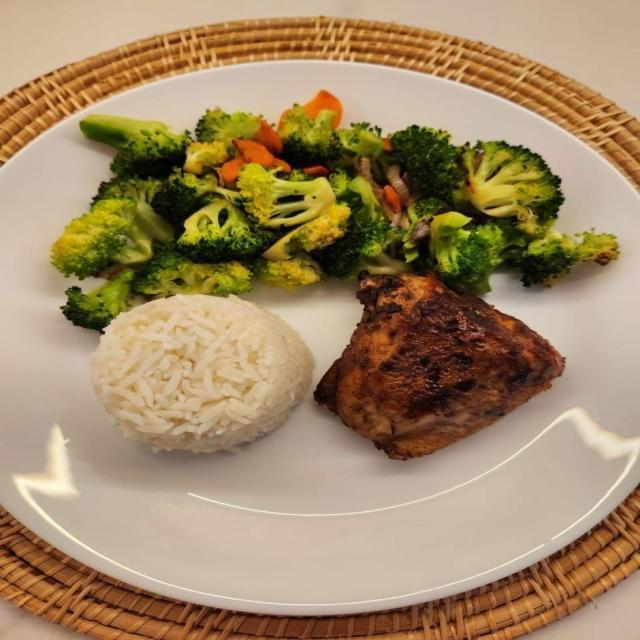Chicken: (312, 269, 568, 462)
Plate: (0, 64, 639, 609)
Rice: (88, 296, 306, 451)
Vegetables: (47, 90, 613, 328)
